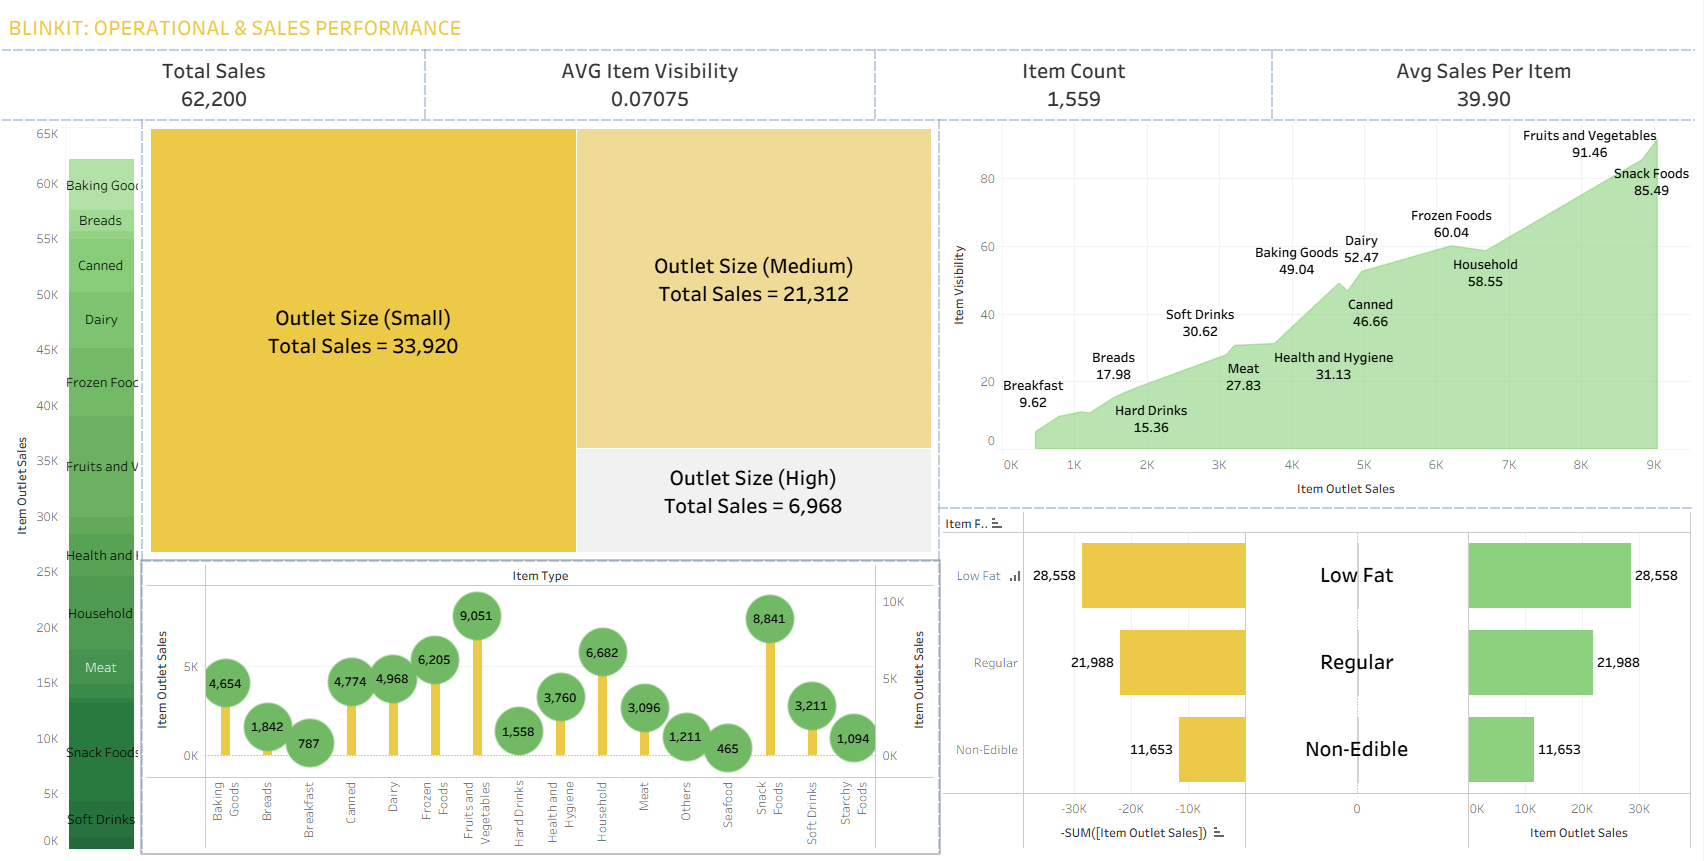

The dashboard page shown, as its layout file describes it:
{"tool":"tableau","page":{"name":"Dashboard 1","canvas":[1000,1000],"units":"permille","ordinal":0},"visuals":[{"type":"text","box":[4.7,9.3,990.6,52.1]},{"type":"worksheet","title":"TS KPI","mark":"Automatic","box":[4.7,61.3,247.7,81]},{"type":"worksheet","title":"Avg IV KPI","mark":"Automatic","box":[252.3,61.3,263.2,81]},{"type":"worksheet","title":"IC KPI","mark":"Automatic","box":[515.5,61.3,232.1,81]},{"type":"worksheet","title":"Avg Sales KPI","mark":"Automatic","box":[747.6,61.3,247.7,81]},{"type":"worksheet","title":"Product Mix","mark":"Bar","rows":["Item_Outlet_Sales"],"box":[4.7,142.3,81.9,848.4]},{"type":"worksheet","title":"Distribution","mark":"Automatic","box":[86.6,142.3,466.4,510.4]},{"type":"worksheet","title":"Green Shelf","mark":"Area","rows":["Item_Visibility"],"cols":["Item_Outlet_Sales"],"box":[553,142.3,442.4,449.1]},{"type":"worksheet","title":"Contri","mark":"Automatic","rows":["Item_Fat_Content"],"cols":["Calculation_284852721483481092","Calculation_284852721483702277","Item_Outlet_Sales"],"box":[553,591.4,442.4,399.3]},{"type":"worksheet","title":"Corporate Reporting","mark":"Bar","rows":["Item_Outlet_Sales","Item_Outlet_Sales"],"cols":["Item_Type"],"box":[86.6,652.8,466.4,338]}]}

Visuals, with their boxes on the dashboard's canvas, which has no fixed pixel size, in thousandths of its width and height (x1, y1, x2, y2). These are canvas units, not pixel positions in the 1704x861 screenshot, which may show the page scaled, cropped or inside an application window:
text: 5:9:995:61
"TS KPI" worksheet: 5:61:252:142
"Avg IV KPI" worksheet: 252:61:516:142
"IC KPI" worksheet: 516:61:748:142
"Avg Sales KPI" worksheet: 748:61:995:142
"Product Mix" worksheet (Bar marks): 5:142:87:991
"Distribution" worksheet: 87:142:553:653
"Green Shelf" worksheet (Area marks): 553:142:995:591
"Contri" worksheet: 553:591:995:991
"Corporate Reporting" worksheet (Bar marks): 87:653:553:991
